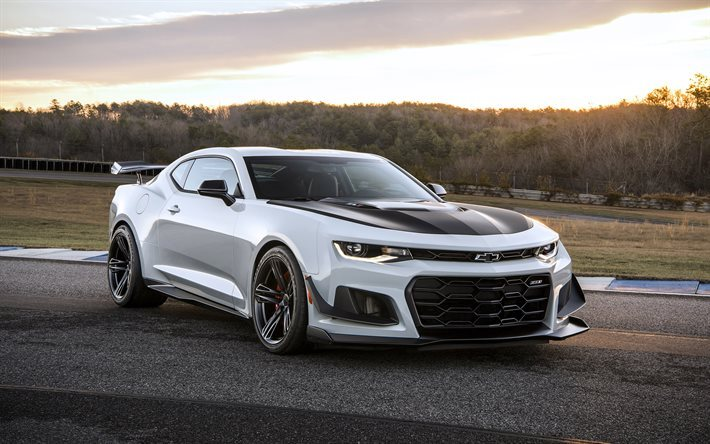sedan: (99, 142, 594, 357)
